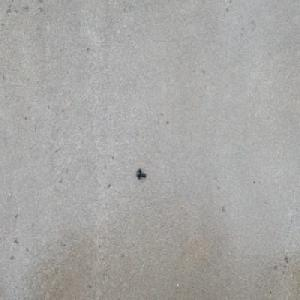BoltWasher: (136, 168, 146, 181)
